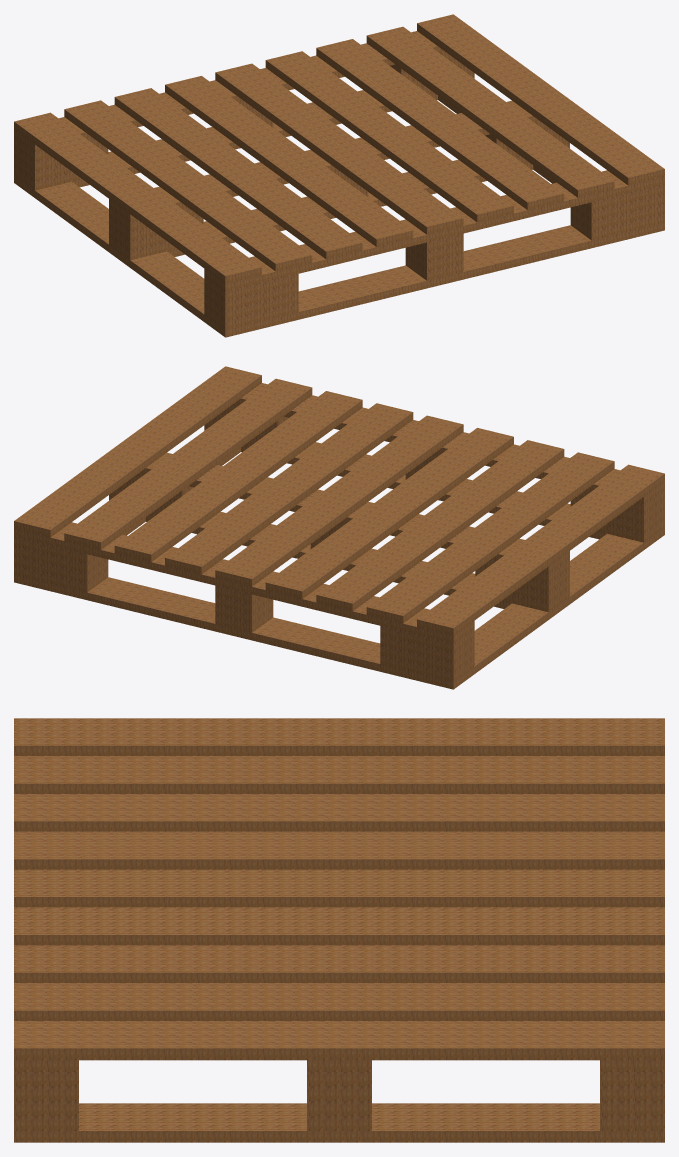
The model's file is ukpallet.glb.
3 renders of one model, top to bottom at view 1: azimuth 30°, elevation 25°; view 2: azimuth 150°, elevation 25°; view 3: azimuth 270°, elevation 25°, orthographic. The views are drawn at different scales.
Bounding box in the file's own units: 1.2 × 0.16 × 1.
Materials: 1 (1 with a texture image).
